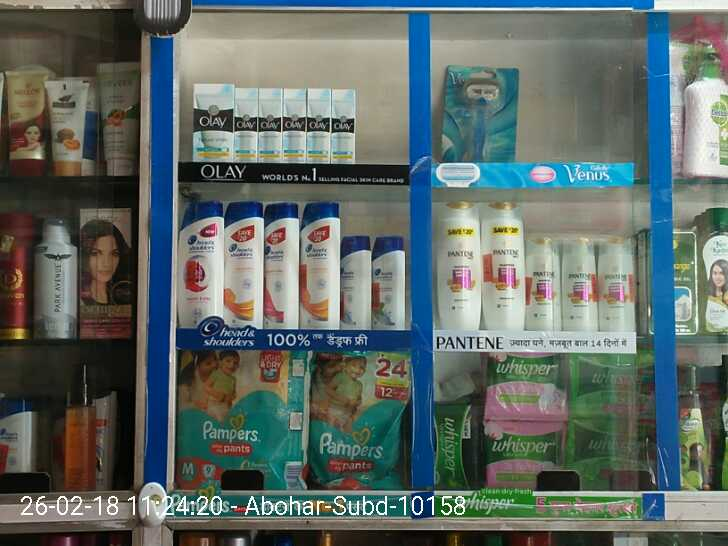venus: (445, 70, 518, 159)
